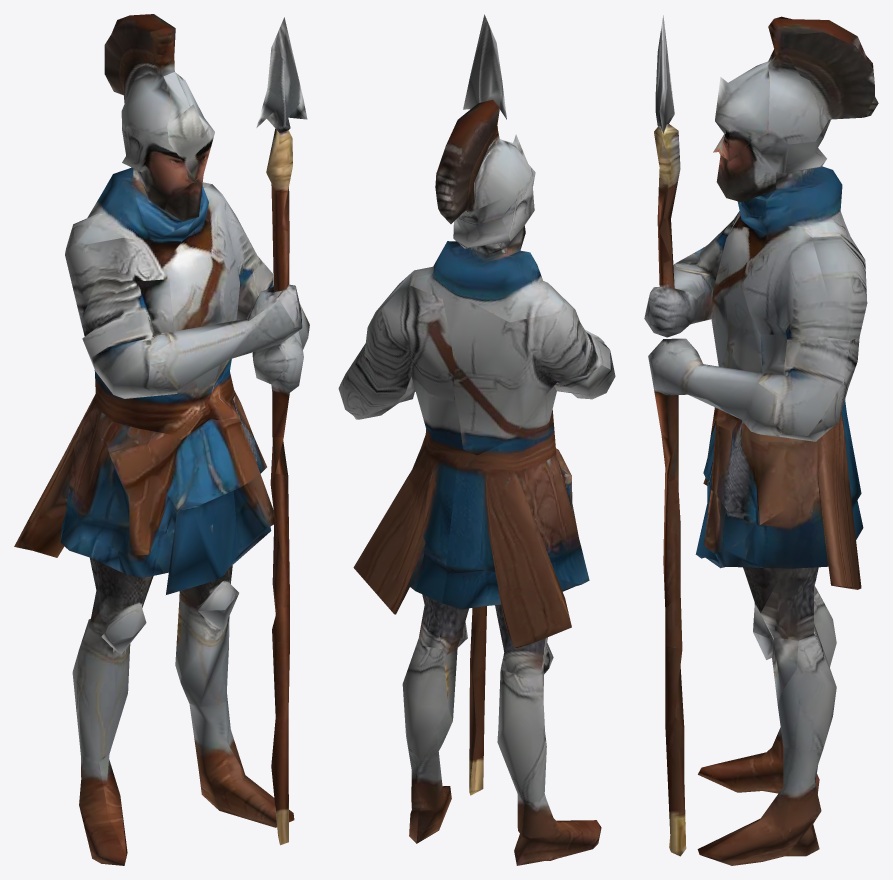
Rendered from pikeman.glb.
3 renders of one model, left to right at view 1: azimuth 30°, elevation 25°; view 2: azimuth 150°, elevation 25°; view 3: azimuth 270°, elevation 25°, orthographic. The views are drawn at different scales.
Size of the model in its own units: 0.6262 by 1.9 by 0.4814.
Materials: 1 (1 with a texture image).
